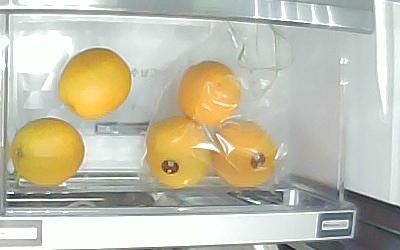orange: (58, 47, 133, 121), (10, 117, 86, 187)
orange_vinyl: (146, 115, 212, 190), (212, 120, 279, 189), (177, 60, 242, 127)
